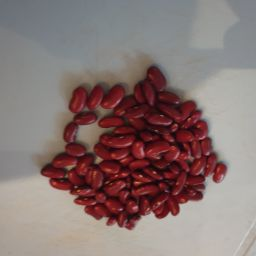Pinto Beans (kidney beans): (7, 53, 243, 256), (46, 62, 235, 243), (39, 163, 152, 235), (170, 100, 235, 188), (136, 67, 192, 160), (134, 164, 221, 221), (31, 128, 87, 210), (55, 73, 129, 122), (59, 145, 107, 198)
